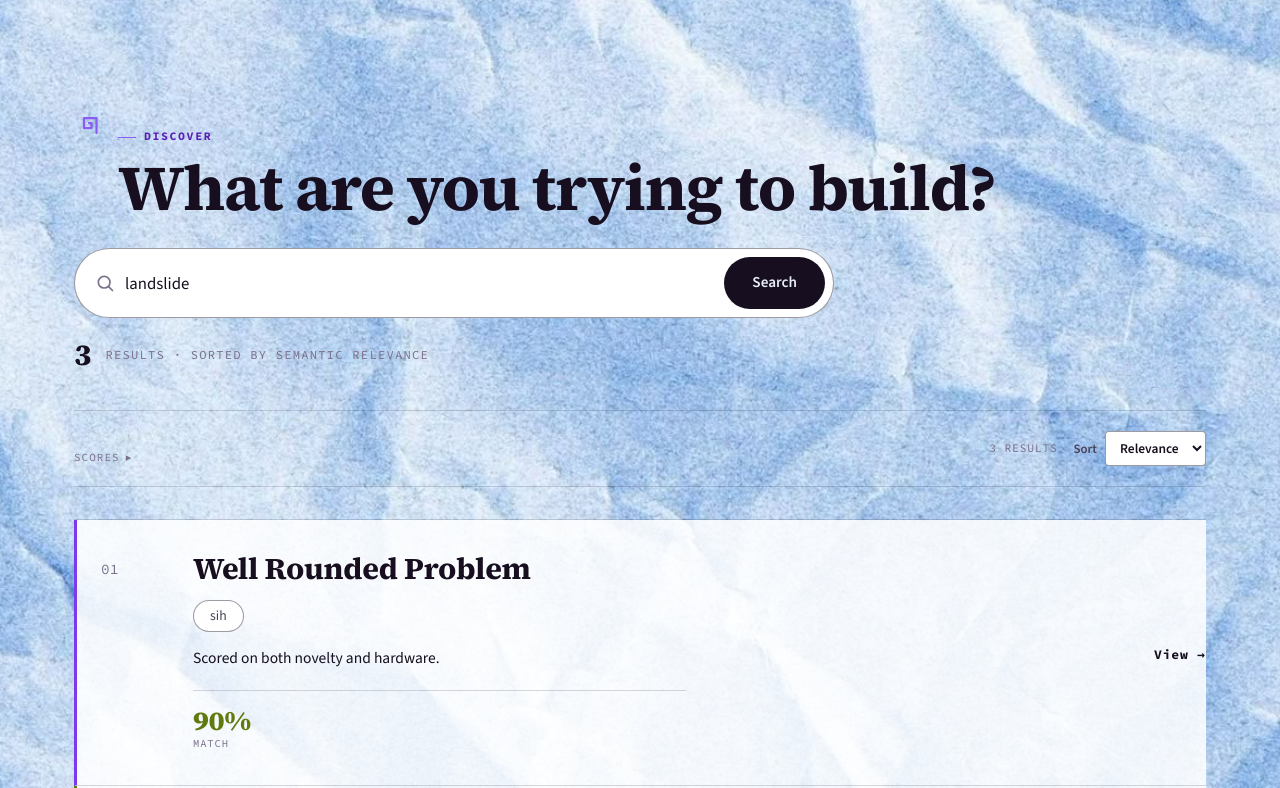
Test case: Discover — score threshold filters › shows a persistent Clear all filters control once any filter is active, and it clears both chip and score filters
Expected: the heading "Well Rounded Problem" is shown, [193,548,531,589]
Expected: the text "Clear all filters" is not shown
Click the text "Scores" at (97, 457), box [74,449,120,466]
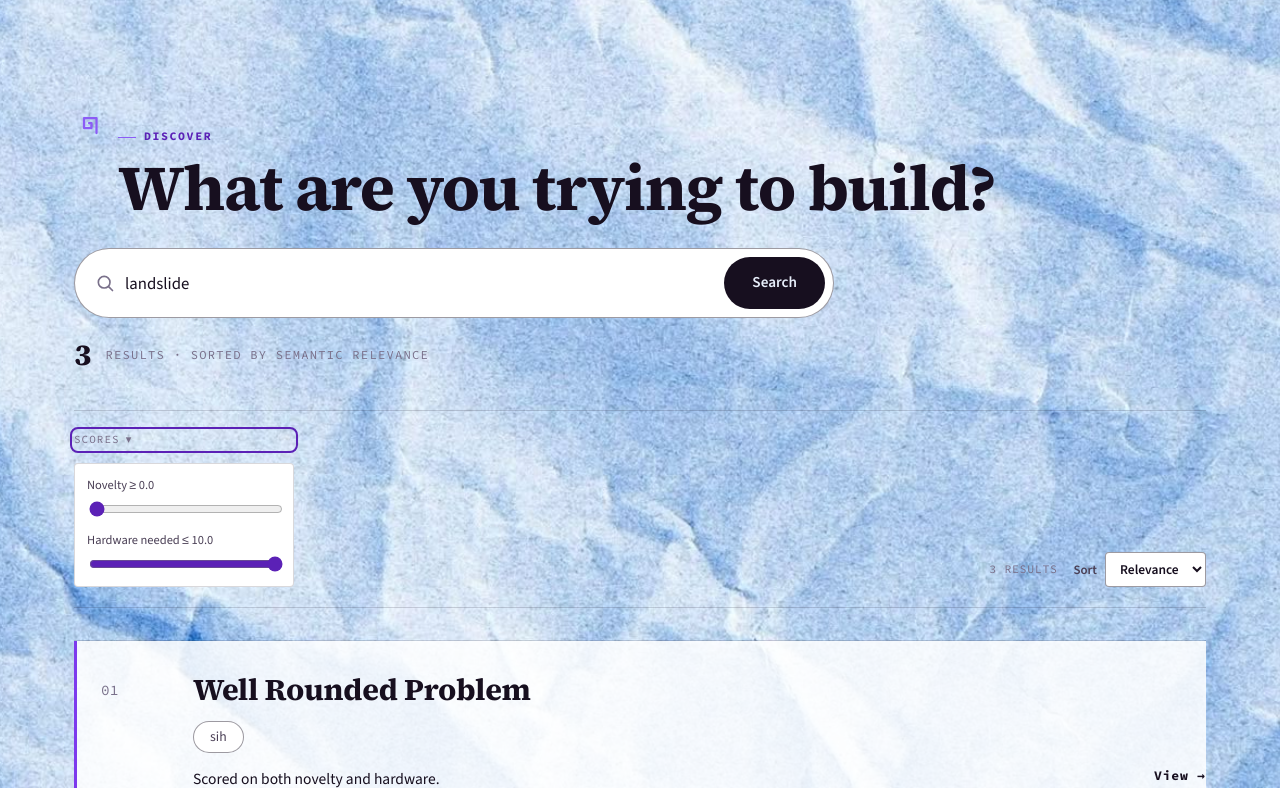
Set the slider named "Novelty" to "5" at (186, 509), box [89,501,283,517]
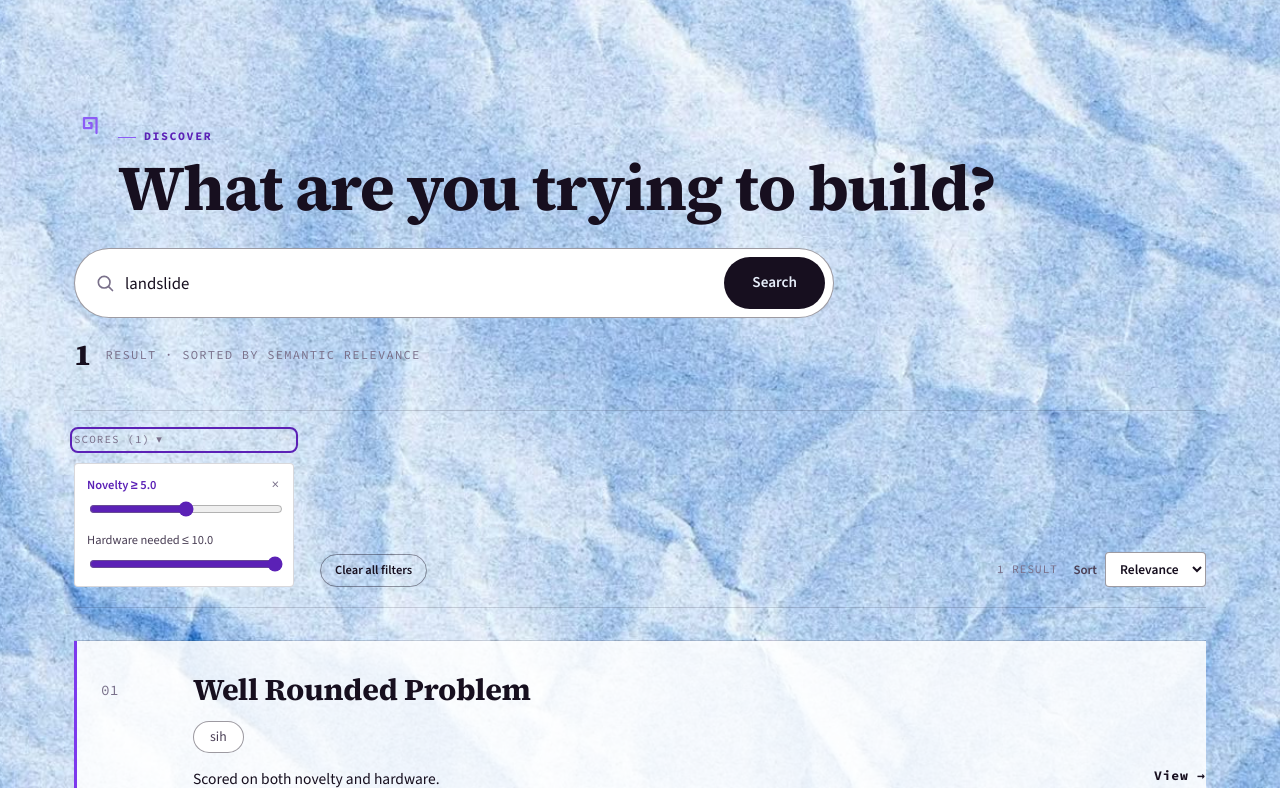
Expected: the text "Low Novelty Problem" is not shown
Click the button "Clear all filters" at (374, 570), box [320,554,427,587]
(page scrolled)
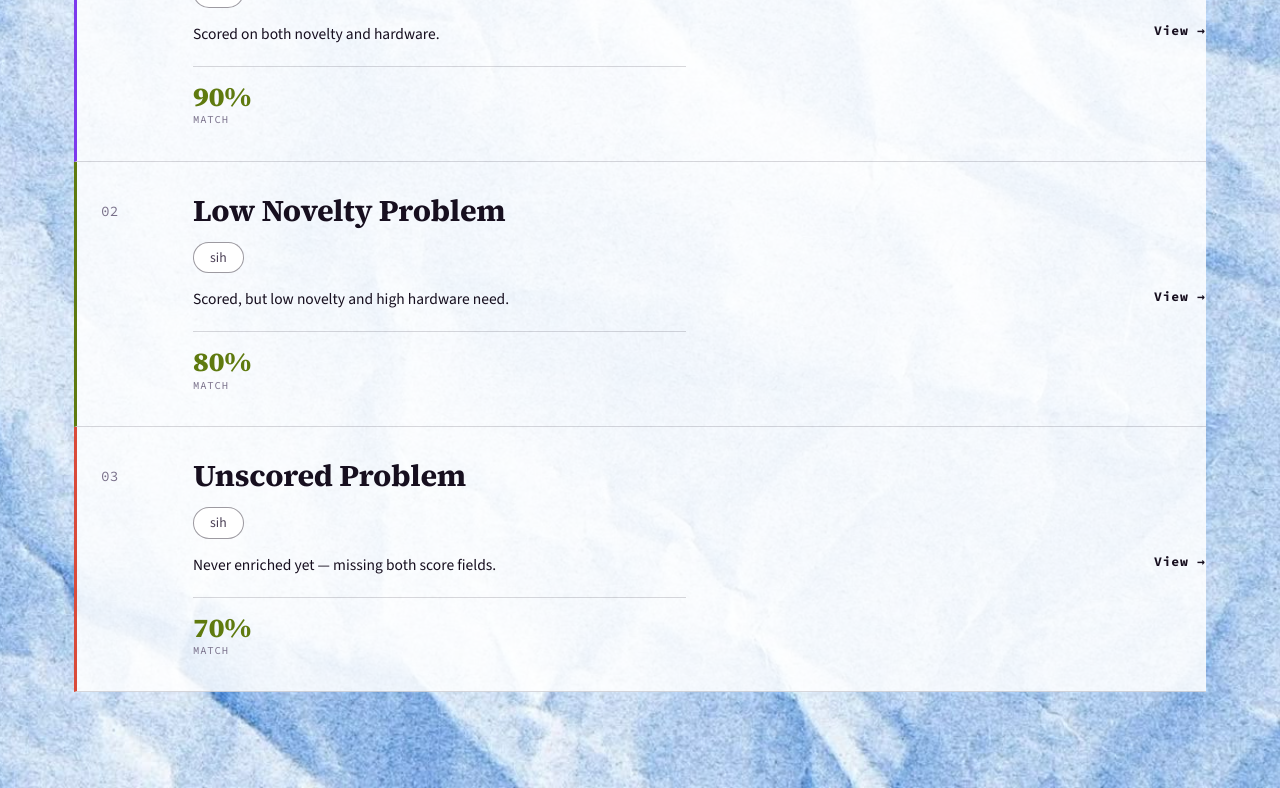
Now the heading "Low Novelty Problem" is shown, box [193,190,506,231]
Now the heading "Unscored Problem" is shown, box [193,455,466,496]
Now the button "Clear all filters" is gone
